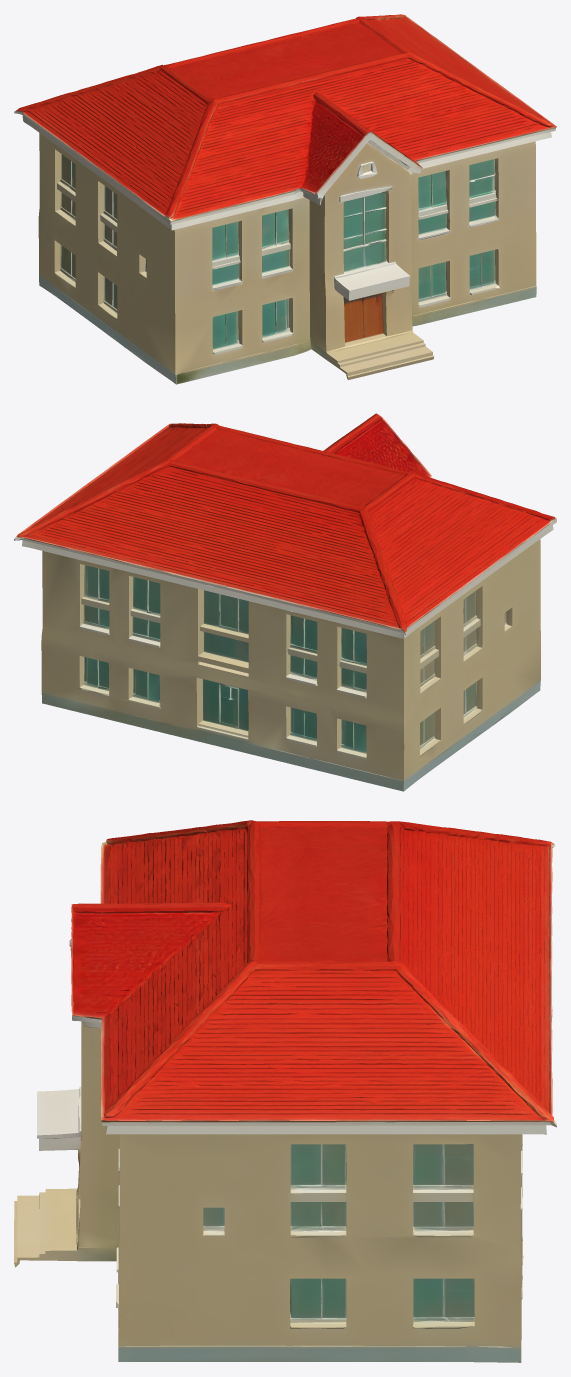
File: academic_building.glb
3 views of the same model, one above another, from view 1: azimuth 30°, elevation 25°; view 2: azimuth 150°, elevation 25°; view 3: azimuth 270°, elevation 25° (orthographic). The views are drawn at different scales.
Visible parts, largest first — view 1: model; view 2: model; view 3: model.
Part boxes in pixels (bbox=[...]): model: bbox=[14, 14, 556, 384]; model: bbox=[14, 413, 556, 791]; model: bbox=[14, 820, 556, 1362].
Size of the model in its own units: 1.91 by 1.1 by 1.55.
Materials: 1 (1 with a texture image).
